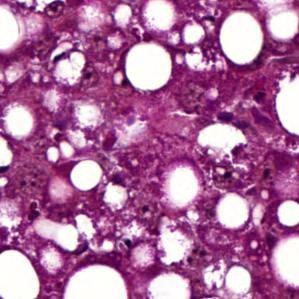steatosis: (124, 43, 176, 91), (220, 11, 266, 65), (71, 162, 107, 193)
